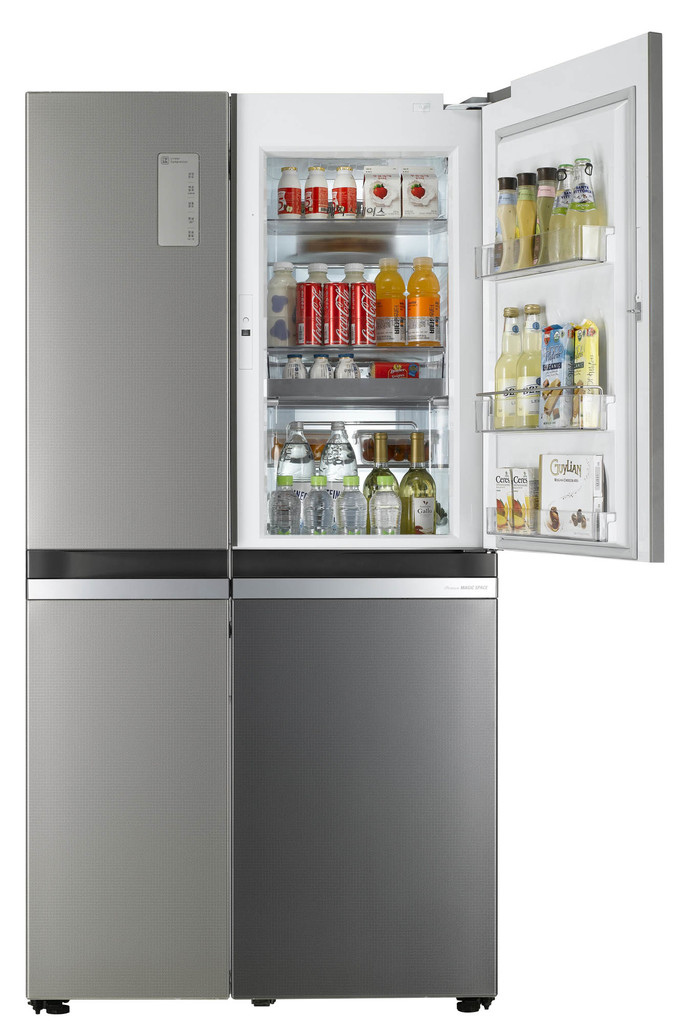handle: (234, 556, 492, 610), (23, 572, 227, 627)
refrigerator door: (242, 582, 496, 997), (26, 100, 230, 567), (485, 108, 657, 550), (35, 589, 224, 983)
